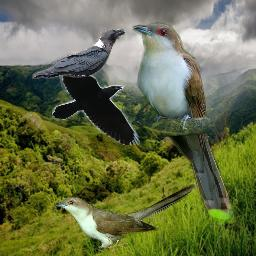Crow: (52, 54, 140, 145), (32, 29, 125, 79)
Cuckoo: (132, 22, 236, 225), (53, 183, 195, 248)
